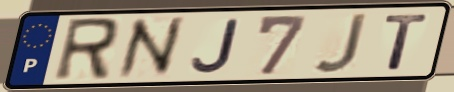7: (254, 14, 309, 77)
J: (310, 11, 371, 76), (188, 17, 241, 75)
N: (115, 14, 186, 82)
R: (49, 16, 122, 84)
T: (381, 12, 433, 72)
